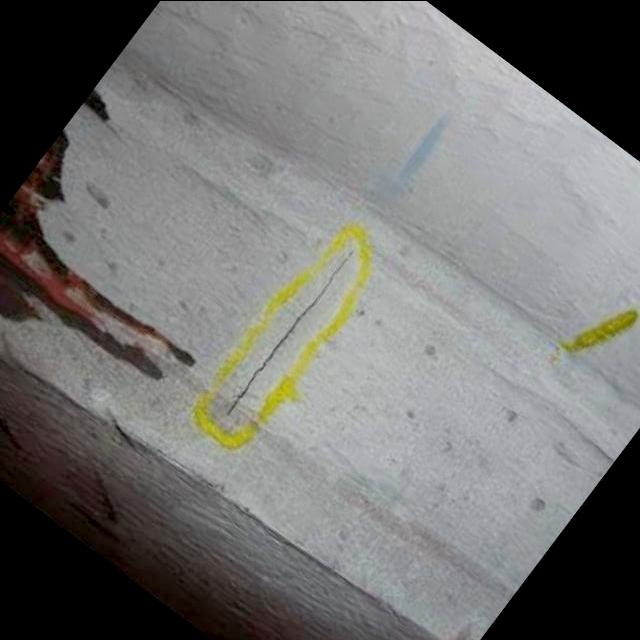defect: (222, 246, 358, 422)
